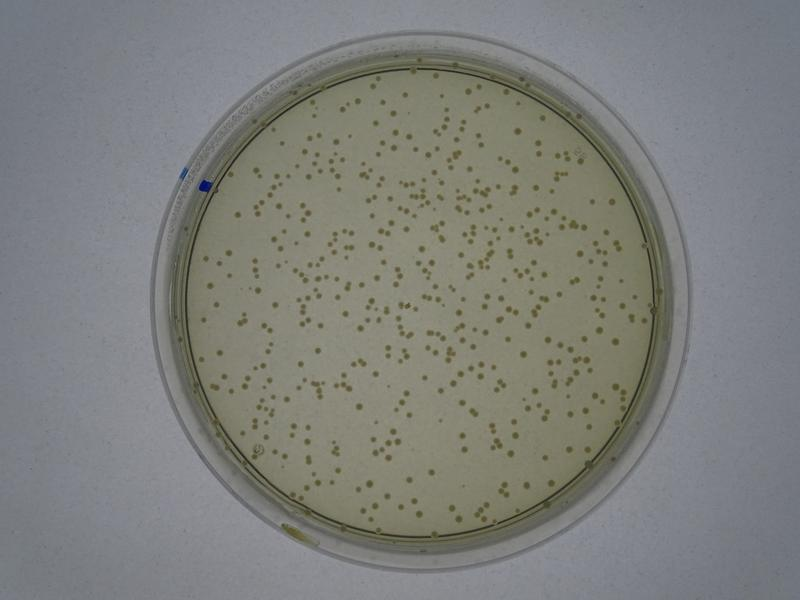colony: (512, 124, 524, 137), (401, 473, 414, 485), (427, 468, 438, 482), (517, 348, 527, 363), (311, 344, 323, 356), (204, 280, 216, 292), (340, 308, 351, 321), (353, 401, 366, 411), (232, 210, 243, 220), (270, 300, 282, 309), (458, 429, 468, 439), (366, 479, 376, 489), (417, 244, 428, 253), (372, 272, 381, 283), (296, 359, 305, 369), (372, 371, 382, 380), (304, 230, 313, 237), (299, 200, 306, 208)
